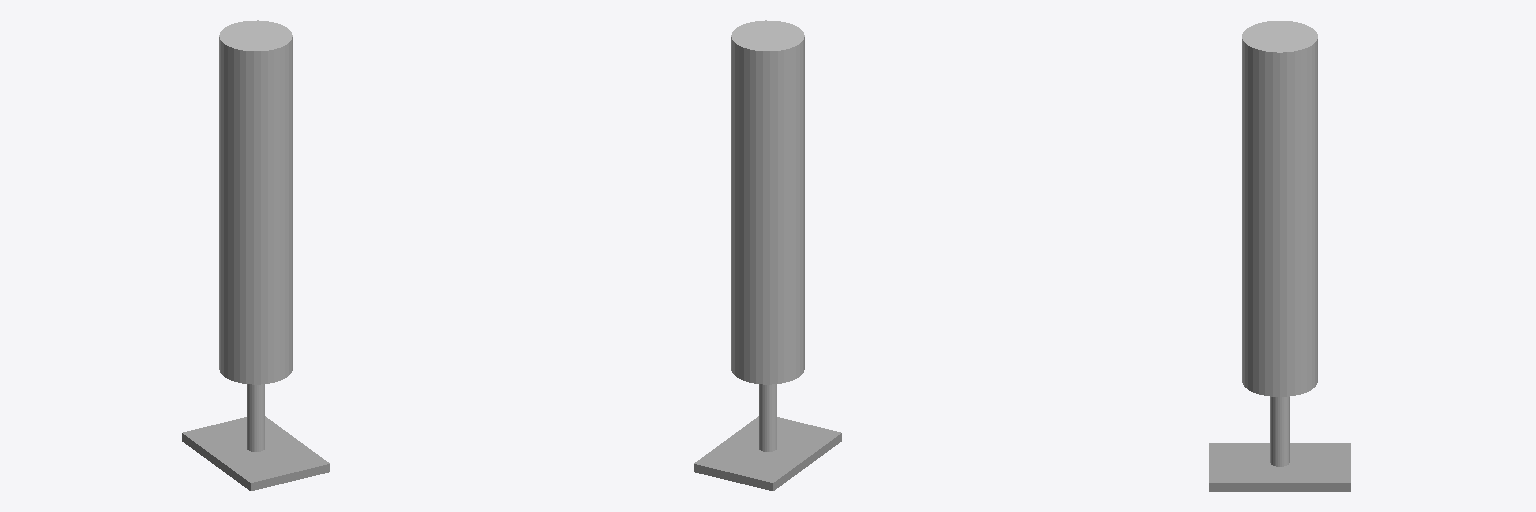
The robot description file, URDF, robot "LISM_Arm":
<?xml version="1.0" ?>
<robot name="LISM_Arm">

    <!-- Basic colors -->
    <material name="black">
        <color rgba="0.0 0.0 0.0 1.0"/>
    </material>
    <material name="greyblack">
        <color rgba="0.8 0.8 0.8 1"/>
    </material>
    <material name="blue">
        <color rgba="0.0 0.0 0.8 1.0"/>
    </material>
    <material name="green">
        <color rgba="0.0 0.8 0.0 1.0"/>
    </material>
    <material name="grey">
        <color rgba="0.3 0.3 0.3 1"/>
    </material>
    <material name="silver">
        <color rgba="0.8 0.8 0.8 1"/>
    </material>
    <material name="red">
        <color rgba="0.8 0.0 0.0 1.0"/>
    </material>
    <material name="white">
        <color rgba="1.0 1.0 1.0 1.0"/>
    </material>

    <material name="anymal_material">
        <color rgba="0.7 0.7 0.7 1.0"/>
    </material>


    <!-- Material for the visual primitives -->
    <material name="anymal_material">
        <color rgba="0.7 0.7 0.7 1.0"/>
    </material>

<!---=============================the base of fixing arm======================-->
    <!--base of fixing arm-->
    <link name="world"/>

    <joint name="worldTolink1" type="fixed">
        <parent link="world"/>
        <child link="base_plate"/>
        <origin xyz="0.5 0.1 0"/>
    </joint>

    <link name="base_plate">
        <visual>
            <origin rpy="0.0 0.0 0.0" xyz="0 0 0"/>
            <geometry>
                <box size="0.2 0.3 0.02"/>
            </geometry>
            <material name="anymal_material"/>
        </visual>
        
    </link>

    <joint name="base_fix" type="fixed">
        <axis xyz="1 0 0"/>
        <origin rpy="0 0 0" xyz="0 0 0"/>
        <parent link="base_plate"/>
        <child link="fix_pillar"/>
    </joint>

    <link name="fix_pillar">
        <visual>
            <origin rpy="0.0 0.0 0.0" xyz="0 0 0.1"/>
            <geometry>
                <cylinder length="0.2" radius="0.02"/>
            </geometry>
            <material name="greyblack"/>
        </visual>
    </link>

    <joint name="pillar_bag" type="fixed">
        <axis xyz="1 0 0"/>
        <origin rpy="0 0 0" xyz="0 0 0"/>
        <parent link="fix_pillar"/>
        <child link="bag"/>
    </joint>

    <link name="bag">
        <visual>
            <origin rpy="0.0 0.0 0.0" xyz="0 0 0.6"/>
            <geometry>
                <cylinder length="0.8" radius="0.08"/>
            </geometry>
            <material name="greyblack"/>
        </visual>
        <collision>
            <origin rpy="0 0 0" xyz="0 0 0.6"/>
            <geometry>
                <cylinder length="0.8" radius="0.08"/>
            </geometry>
            <!-- <material name="">
                <contact name="rub"/>
            </material> -->
        </collision>
        <inertial>
            <mass value="70.0"/>
            <inertia ixx="3.73" ixy="0" ixz="0" iyy="3.73" iyz="0" izz="0.224"/>
        </inertial>
    </link>

    <joint name="pillar_test" type="revolute">
        <axis xyz="0 0 1"/>
        <origin rpy="0 0 0" xyz="0 0 0"/>
        <parent link="bag"/>
        <child link="test"/>
    </joint>

    <link name="test">
        <visual>
            <origin rpy="0.0 0.0 0.0" xyz="0 0 0.6"/>
            <geometry>
                <cylinder length="0.01" radius="0.08"/>
            </geometry>
            <material name="greyblack"/>
        </visual>
        <collision>
            <origin rpy="0 0 0" xyz="0 0 0.6"/>
            <geometry>
                <cylinder length="0.01" radius="0.08"/>
            </geometry>
            <!-- <material name="">
                <contact name="rub"/>
            </material> -->
        </collision>
        <inertial>
            <mass value="1.0"/>
            <inertia ixx="0.05" ixy="0" ixz="0" iyy="0.05" iyz="0" izz="0.00224"/>
        </inertial>
    </link>

</robot>

--- Facts derived from the render (not from the file) ---
Views: 3 orthographic renders of the robot side by side, from view 1: azimuth 30°, elevation 25°; view 2: azimuth 150°, elevation 25°; view 3: azimuth 270°, elevation 25°.
Model LISM_Arm with 5 links and 4 joints (1 revolute, 3 fixed), rooted at world, posed every joint at zero.
Visible links, largest first — view 1: bag, base_plate, fix_pillar; view 2: bag, base_plate, fix_pillar; view 3: bag, base_plate, fix_pillar.
Link boxes in pixels (left/top/right/bottom): bag: left=219, top=20, right=292, bottom=384; base_plate: left=182, top=416, right=329, bottom=490; fix_pillar: left=247, top=384, right=264, bottom=451; bag: left=731, top=20, right=804, bottom=384; base_plate: left=694, top=416, right=841, bottom=490; fix_pillar: left=759, top=384, right=776, bottom=451; bag: left=1242, top=21, right=1317, bottom=396; base_plate: left=1209, top=443, right=1350, bottom=491; fix_pillar: left=1270, top=397, right=1289, bottom=466.
Size in the robot's own frame: 0.2 by 0.3 by 1.01 metres.
Geometry: primitives only (box / cylinder / sphere), no mesh files.
